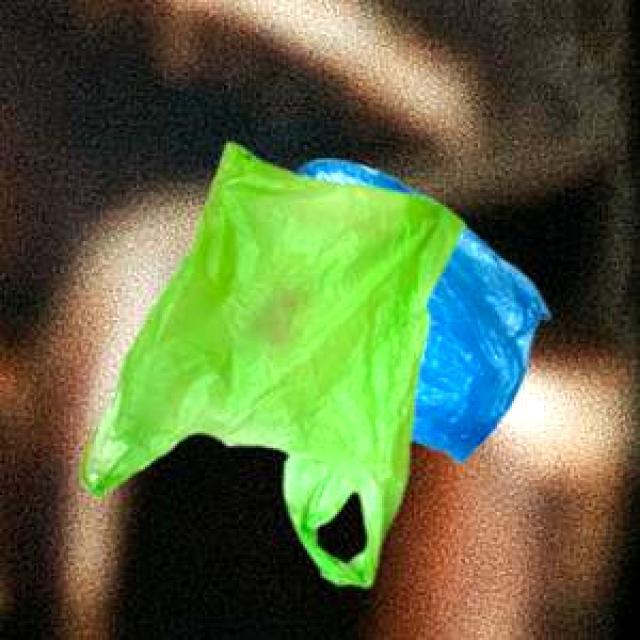Plastic_Bag: (78, 140, 460, 584), (296, 157, 548, 460)
